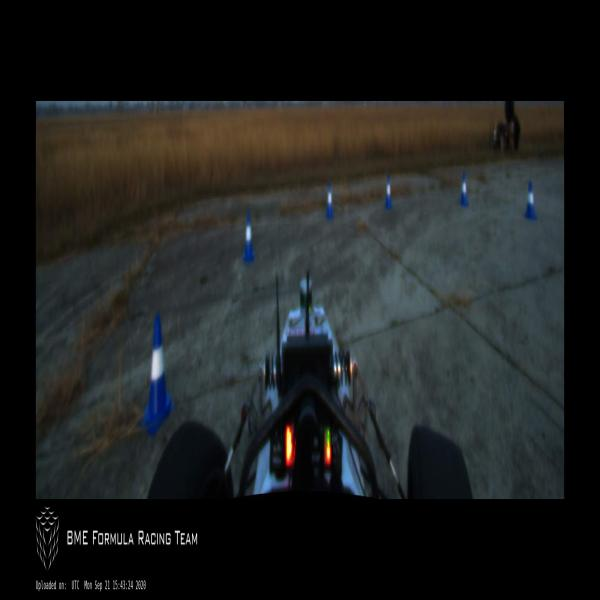blue_cone: (140, 314, 173, 436), (243, 212, 254, 262), (524, 180, 536, 220), (384, 176, 392, 209), (326, 182, 333, 218), (460, 174, 468, 205)
